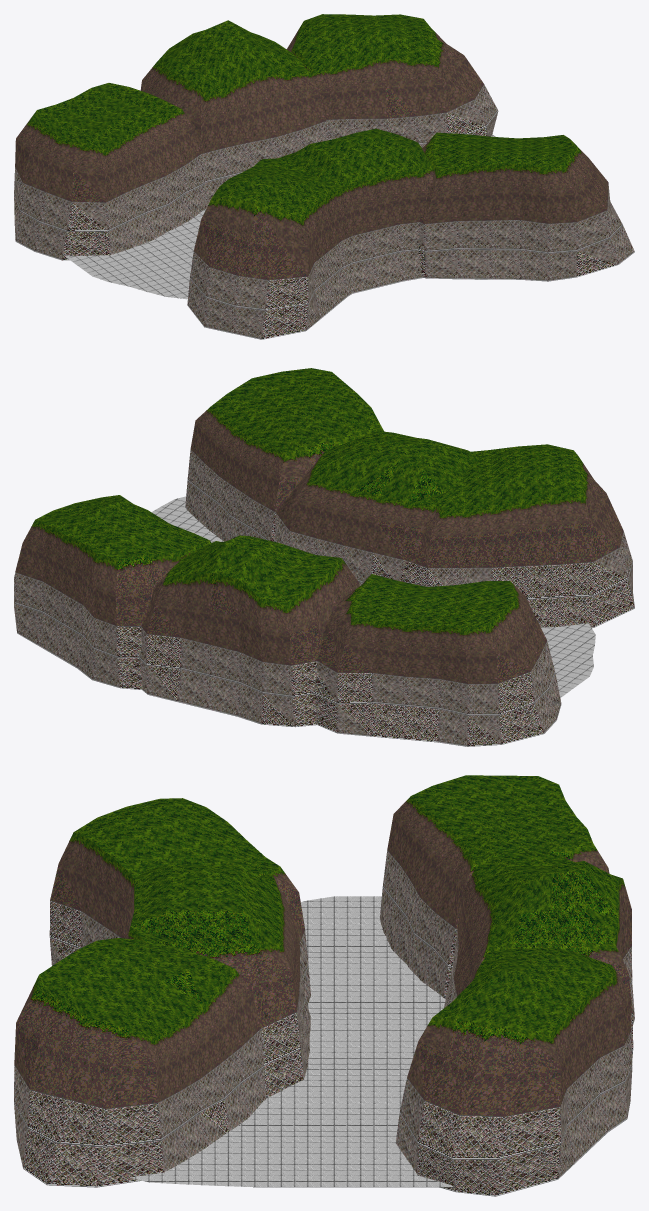
Rendered from starting_line.glb.
3 renders of one model, top to bottom at view 1: azimuth 30°, elevation 25°; view 2: azimuth 150°, elevation 25°; view 3: azimuth 270°, elevation 25°, orthographic. The views are drawn at different scales.
Visible parts, largest first — view 1: Cube.004, Cube.002, Cube.005, Cube.003, Cube.001, Cube, Plane; view 2: Cube.004, Cube.001, Cube.005, Cube.003, Cube.002, Cube, Plane; view 3: Cube.002, Cube.003, Plane, Cube.004, Cube, Cube.005, Cube.001.
Part boxes in pixels (x1,y1,x2,y2): Cube.004: (14,83,207,260); Cube.002: (418,132,634,281); Cube.005: (187,158,354,339); Cube.003: (286,14,498,147); Cube.001: (140,20,329,205); Cube: (278,128,433,293); Plane: (65,134,495,299); Cube.004: (313,574,561,746); Cube.001: (139,535,359,727); Cube.005: (400,444,634,628); Cube.003: (14,495,211,689); Cube.002: (185,368,384,541); Cube: (274,431,477,585); Plane: (151,496,595,697); Cube.002: (14,938,265,1187); Cube.003: (396,947,632,1196); Plane: (130,896,454,1187); Cube.004: (380,775,609,998); Cube: (127,864,310,1098); Cube.005: (49,798,310,1005); Cube.001: (444,849,634,1057).
Bounding box in the file's own units: 30.33 × 8.38 × 25.97.
31 materials, 31 textured.
